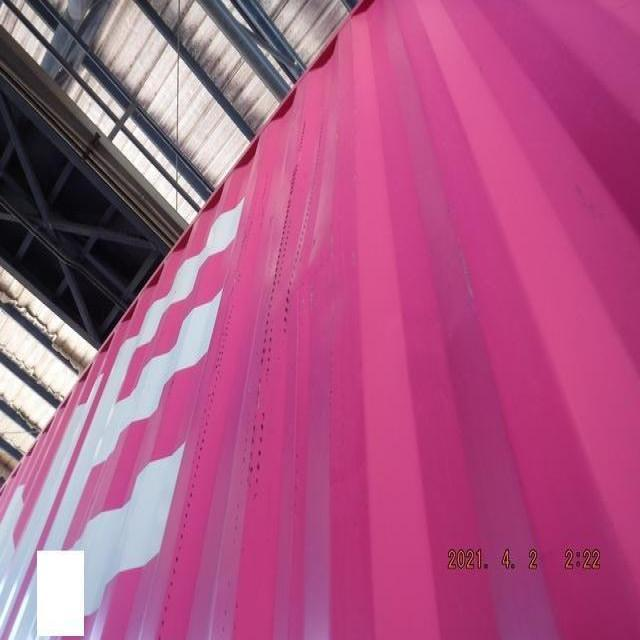dent: (240, 216, 369, 340)
